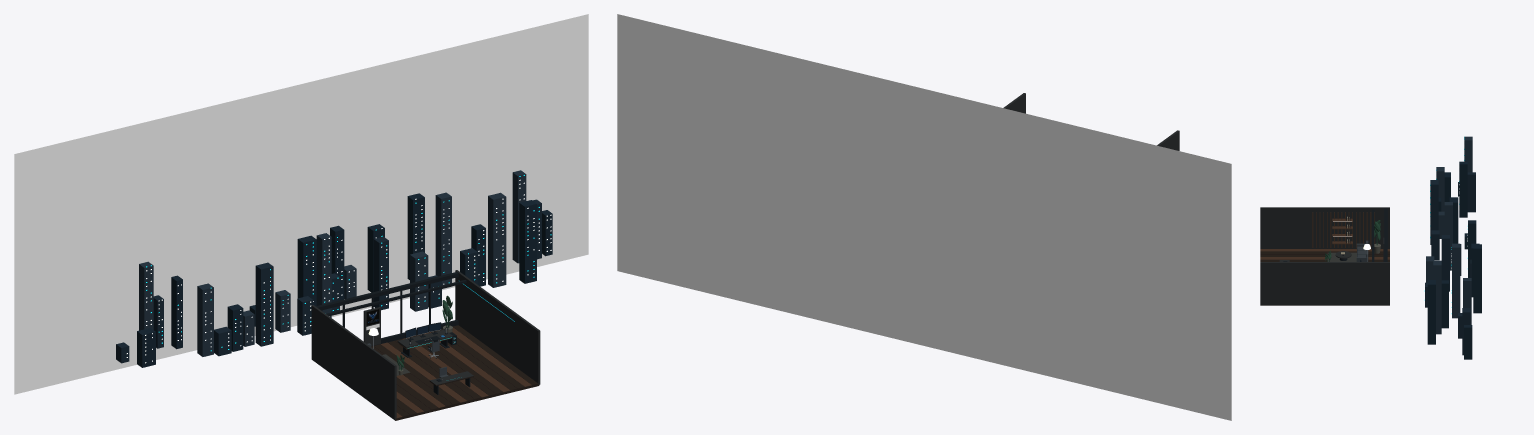
Rendered from velko_office.glb.
The picture shows the model from 3 angles, left to right: view 1: azimuth 30°, elevation 25°; view 2: azimuth 150°, elevation 25°; view 3: azimuth 270°, elevation 25°; orthographic projection. The views are drawn at different scales.
Visible parts, largest first — view 1: TwilightSky_32, LeftWall_22, RightWall_23, SkylineTower_26_59, SkylineTower_9_42, SkylineTower_28_61, SkylineTower_23_56, SkylineTower_13_46, SkylineTower_5_38, SkylineTower_14_47, SkylineTower_22_55, SkylineTower_18_51 (+17 smaller); view 2: TwilightSky_32; view 3: RightWall_23, LeftWall_22, SkylineTower_23_56, SkylineTower_22_55, SkylineTower_28_61, SkylineTower_4_37, SkylineTower_26_59, SkylineTower_9_42, SkylineTower_18_51, SkylineTower_25_58, SkylineTower_14_47, SkylineTower_3_36 (+10 smaller).
Boxes of the visible parts, box(x1,y1,x2,y2) form: TwilightSky_32: box(14, 14, 588, 394); LeftWall_22: box(311, 305, 396, 420); RightWall_23: box(455, 270, 540, 384); SkylineTower_26_59: box(488, 192, 506, 287); SkylineTower_9_42: box(255, 262, 273, 346); SkylineTower_28_61: box(519, 200, 536, 283); SkylineTower_23_56: box(435, 192, 451, 288); SkylineTower_13_46: box(297, 235, 316, 306); SkylineTower_5_38: box(197, 283, 213, 356); SkylineTower_14_47: box(316, 233, 331, 317); SkylineTower_22_55: box(407, 193, 424, 279); SkylineTower_18_51: box(373, 236, 388, 310); TwilightSky_32: box(617, 14, 1231, 420); RightWall_23: box(1260, 262, 1389, 305); LeftWall_22: box(1260, 207, 1389, 248); SkylineTower_23_56: box(1452, 243, 1460, 318); SkylineTower_22_55: box(1473, 244, 1481, 313); SkylineTower_28_61: box(1427, 280, 1435, 344); SkylineTower_4_37: box(1459, 161, 1467, 217); SkylineTower_26_59: box(1433, 260, 1441, 334); SkylineTower_9_42: box(1430, 180, 1438, 244); SkylineTower_18_51: box(1441, 235, 1449, 291); SkylineTower_25_58: box(1441, 280, 1448, 328); SkylineTower_14_47: box(1444, 202, 1452, 270); SkylineTower_3_36: box(1467, 172, 1475, 212).
Bounding box in the file's own units: 40 × 16 × 20.
Materials: 21 (1 with a texture image).
